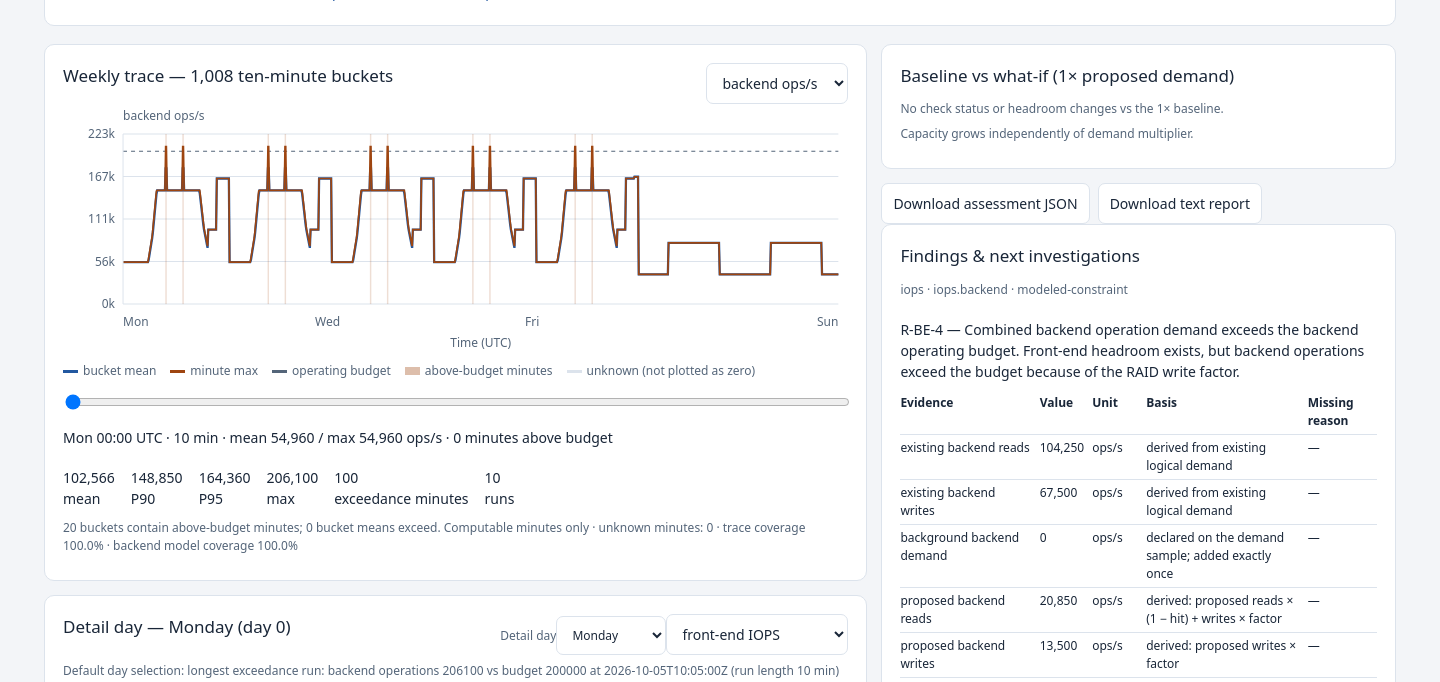
Test: App (default INF-B × WL-VM) › weekly slider at bucket 60 exposes the hidden burst
(page scrolled)
Set the slider named "Inspect bucket" to "60" at (119, 402), box [65,390,850,414]
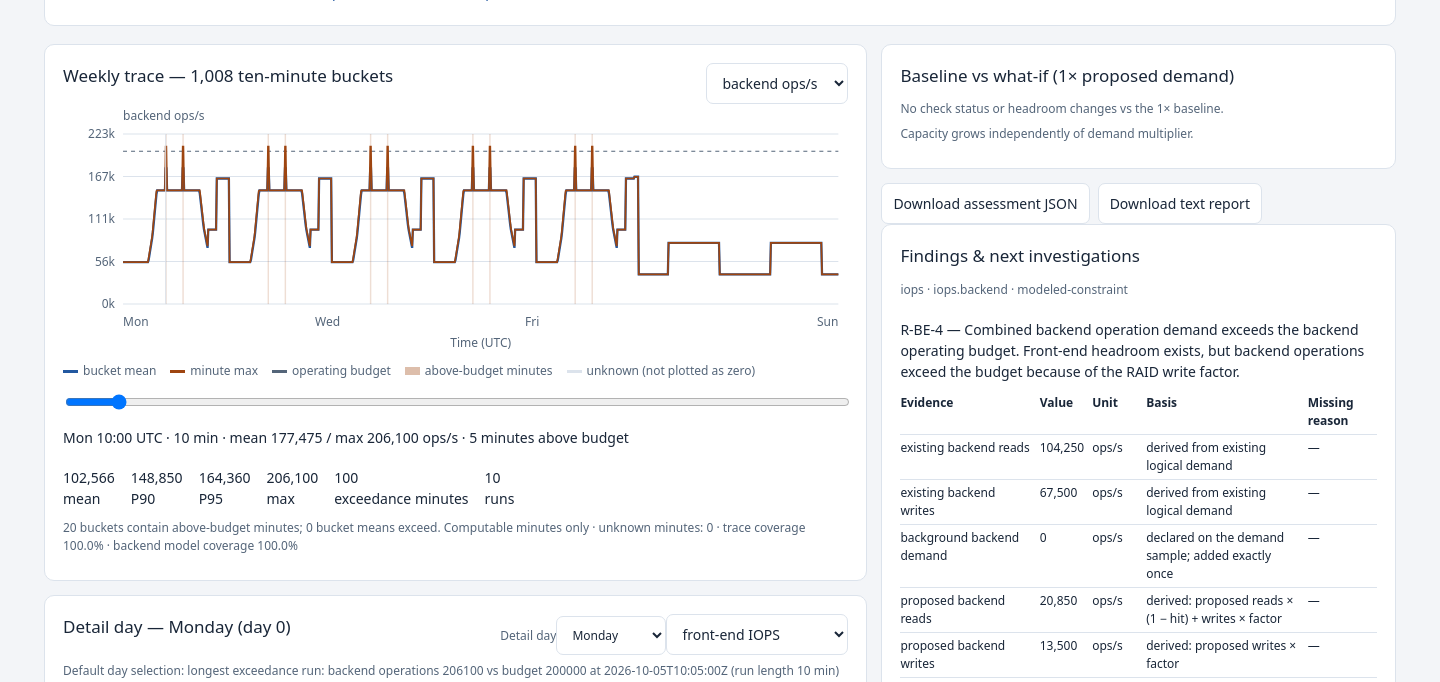
Check: the message shows "177,475", box [230,428,629,447]
Check: the message shows "206,100", box [230,428,629,447]
